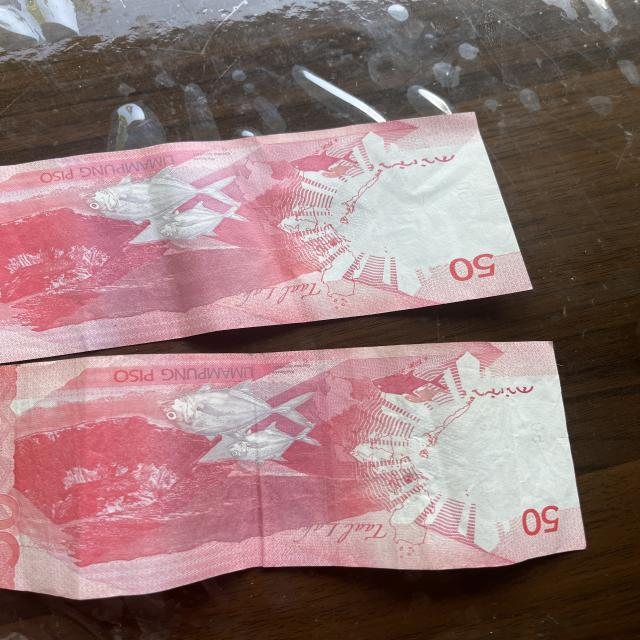50_maliputo: (156, 375, 323, 473), (79, 169, 254, 251)
50_maliputo_watermark: (364, 360, 456, 413), (282, 144, 368, 186)
value_watermark: (444, 171, 485, 210), (517, 414, 545, 448)
watermark: (354, 160, 484, 253), (444, 397, 562, 499)
